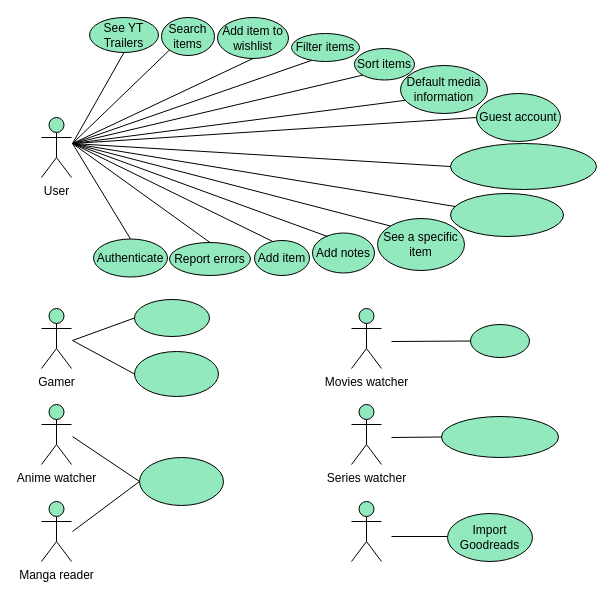
The diagram is 614 pixels wide and 600 high, and some of its shapes have lost their labels. The centre of each missing label's shape, as x and y in pixels:
"Books reader" belongs at point (366, 531).
"I mport MyAnimeList" belongs at point (181, 481).
"I mport Trakt" belongs at point (500, 341).
"Import Steam Library" belongs at point (176, 373).
"Mark episodes as finished" belongs at point (499, 437).
"See HLTB data" belongs at point (172, 317).
"See recommendations" belongs at point (523, 166).
"See reviews from critics" belongs at point (507, 214).
